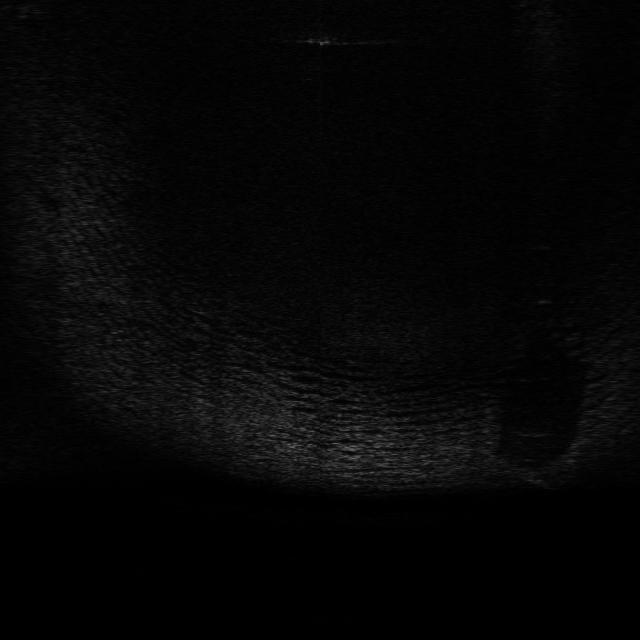cube: (516, 446, 582, 490)
